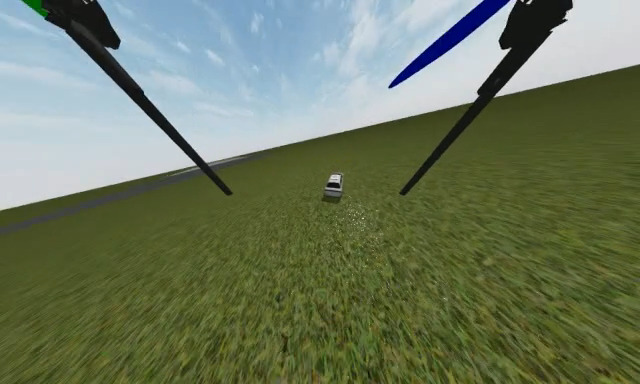Car: (321, 171, 345, 198)
